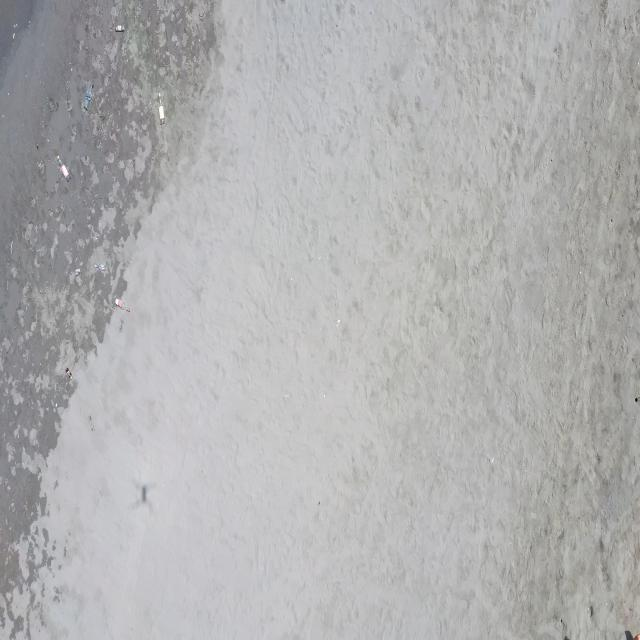glass: (56, 154, 72, 182), (84, 82, 94, 111), (158, 92, 166, 125), (115, 296, 130, 312), (94, 263, 107, 272), (66, 367, 73, 380), (115, 24, 125, 32), (74, 267, 80, 276)
